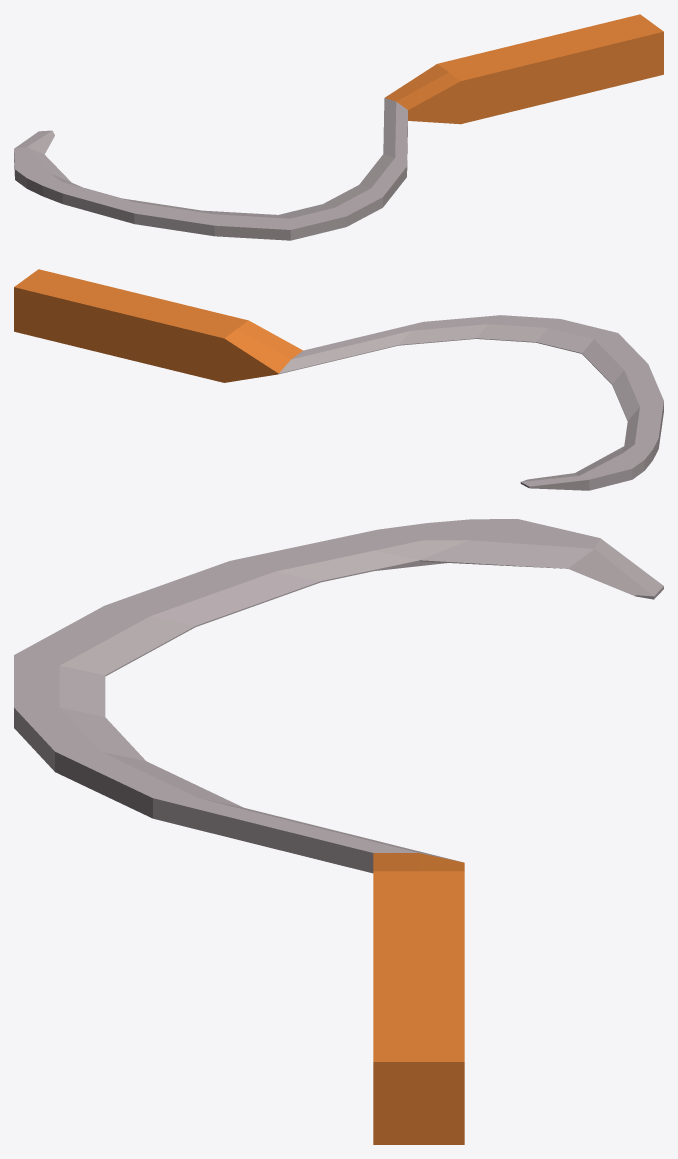
The model's file is steel_sicle.glb.
3 views of the same model, one above another, from view 1: azimuth 30°, elevation 25°; view 2: azimuth 150°, elevation 25°; view 3: azimuth 270°, elevation 25° (orthographic). The views are drawn at different scales.
Visible parts, largest first — view 1: Cube; view 2: Cube; view 3: Cube.
Boxes of the visible parts, left/top/right/bottom form: Cube: left=14, top=14, right=663, bottom=240; Cube: left=14, top=269, right=663, bottom=490; Cube: left=14, top=519, right=663, bottom=1144.
Bounding box in the file's own units: 11.6 × 0.7803 × 5.55.
